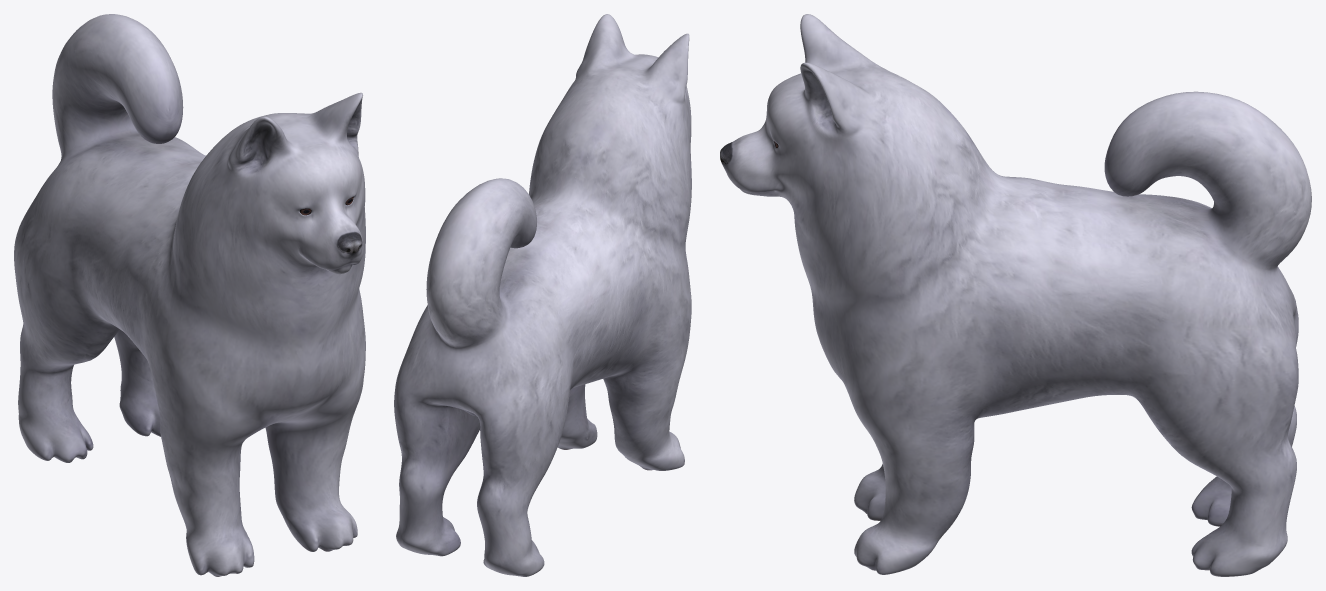
Rendered from samoyede.glb.
3 views of the same model, side by side, from view 1: azimuth 30°, elevation 25°; view 2: azimuth 150°, elevation 25°; view 3: azimuth 270°, elevation 25° (orthographic). The views are drawn at different scales.
Visible parts, largest first — view 1: Object_2; view 2: Object_2; view 3: Object_2.
Part boxes in pixels (box(x1,y1,x2,y2)): Object_2: box(14, 14, 365, 576); Object_2: box(394, 14, 691, 576); Object_2: box(720, 14, 1311, 576).
Bounding box in the file's own units: 0.393 × 0.9556 × 1.02.
1 material, 1 textured.
